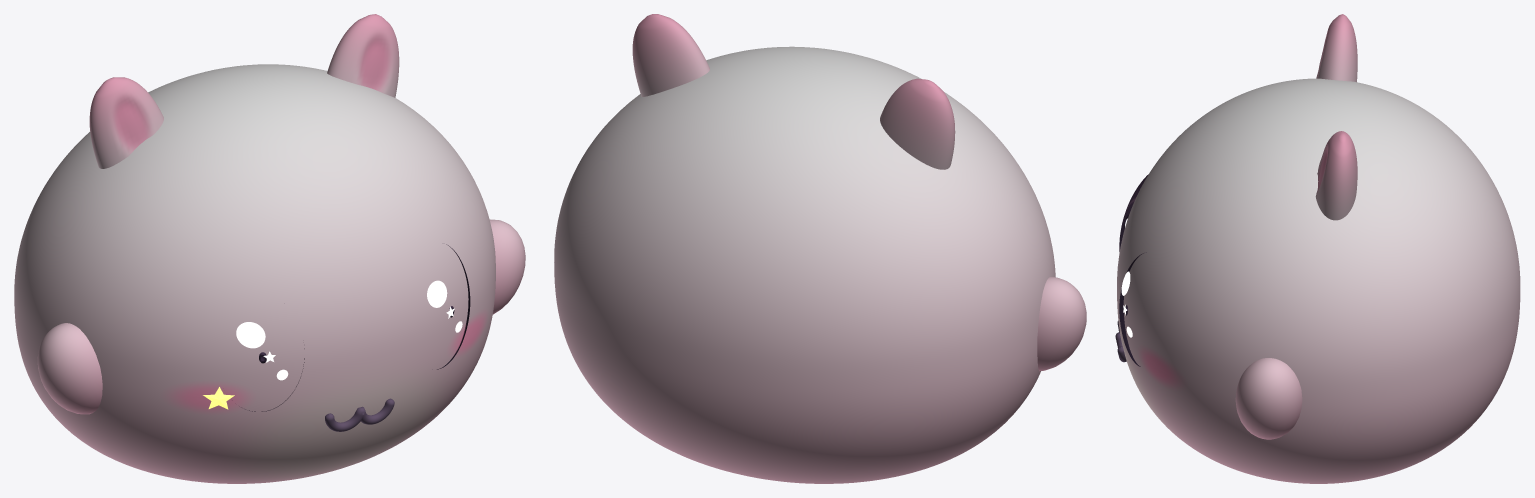
Rendered from myu-DxfrqiwQ.glb.
3 views of the same model, side by side, from view 1: azimuth 30°, elevation 25°; view 2: azimuth 150°, elevation 25°; view 3: azimuth 270°, elevation 25° (orthographic). The views are drawn at different scales.
Visible parts, largest first — view 1: Body, Ear_R, Nub_R, Ear_L, Nub_L, Blush_R, Mouth, Blush_L, Eye_R_Glint1; view 2: Body, Ear_R, Ear_L, Nub_R; view 3: Body, Nub_L, Ear_L, Ear_R, Blush_L.
Part boxes in pixels (<box>): Body: <box>14,64,495,483</box>; Ear_R: <box>89,77,163,168</box>; Nub_R: <box>37,323,102,414</box>; Ear_L: <box>327,14,399,97</box>; Nub_L: <box>489,219,525,314</box>; Blush_R: <box>167,383,250,413</box>; Mouth: <box>325,398,394,431</box>; Blush_L: <box>450,312,486,355</box>; Eye_R_Glint1: <box>236,322,265,348</box>; Body: <box>554,46,1055,483</box>; Ear_R: <box>880,78,955,169</box>; Ear_L: <box>632,14,709,96</box>; Nub_R: <box>1037,277,1086,371</box>; Body: <box>1117,78,1520,483</box>; Nub_L: <box>1235,358,1302,439</box>; Ear_L: <box>1315,131,1357,220</box>; Ear_R: <box>1316,14,1357,82</box>; Blush_L: <box>1140,347,1183,387</box>.
Bounding box in the file's own units: 2.58 × 2.02 × 2.01.
Materials: 8 (2 with a texture image).
